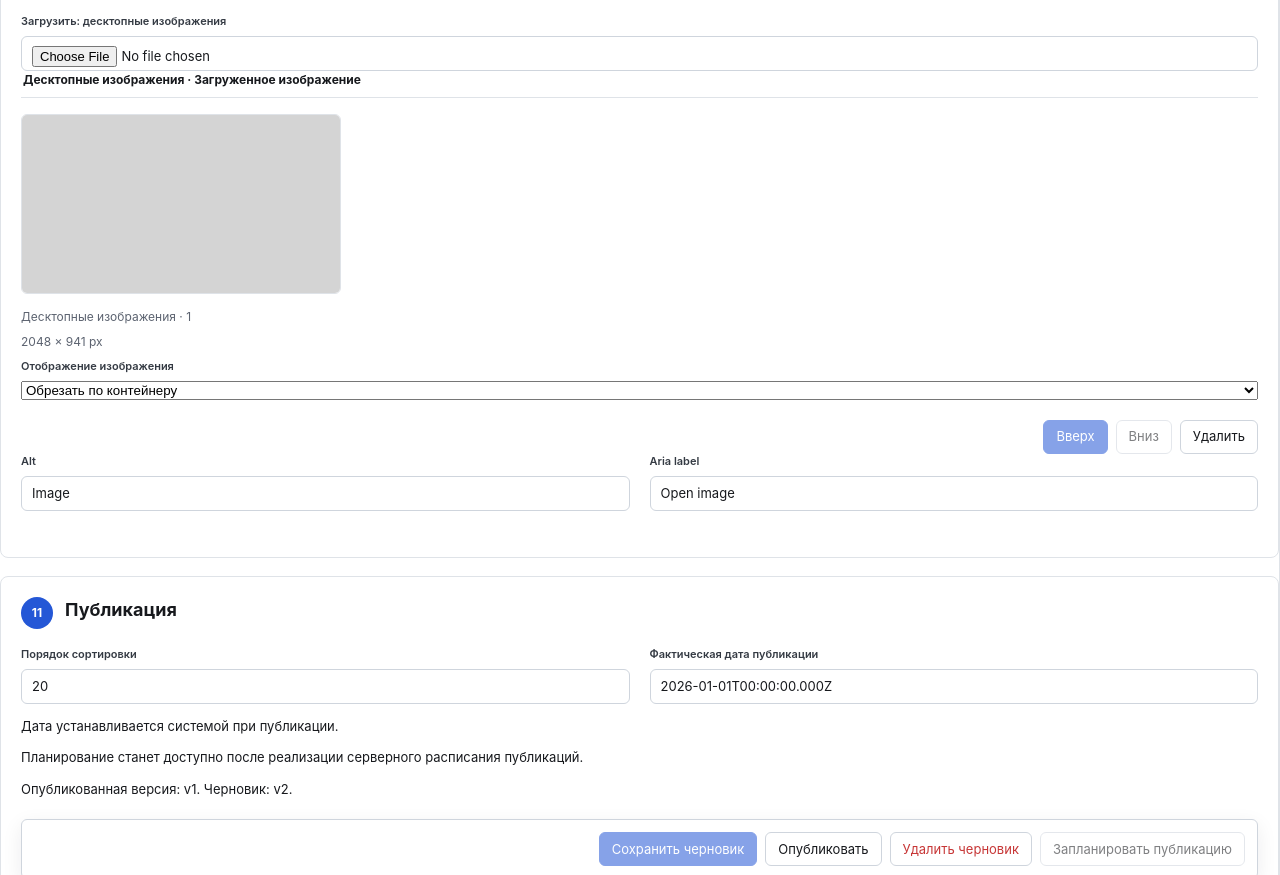
Test case: ProjectInspector media corrective QA › blocks publish for empty URL without a publish request
(page scrolled)
Click the button "Опубликовать" at (823, 849), box [765,832,882,866]
(page scrolled)
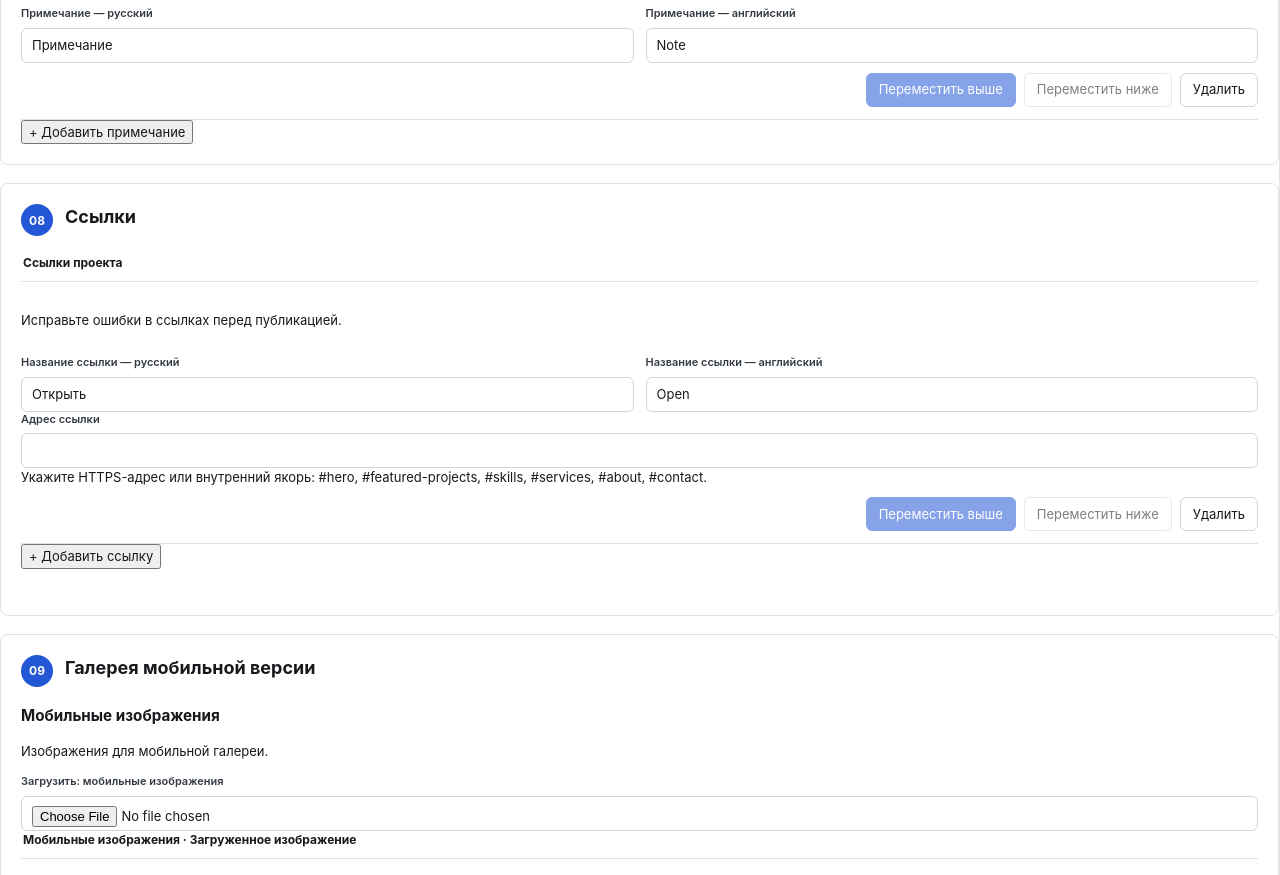
Expected: the text "Укажите HTTPS-адрес или внутренний якорь: #hero, #featured-projects, #skills, #services, #about, #contact." is shown, [21,470,707,486]
